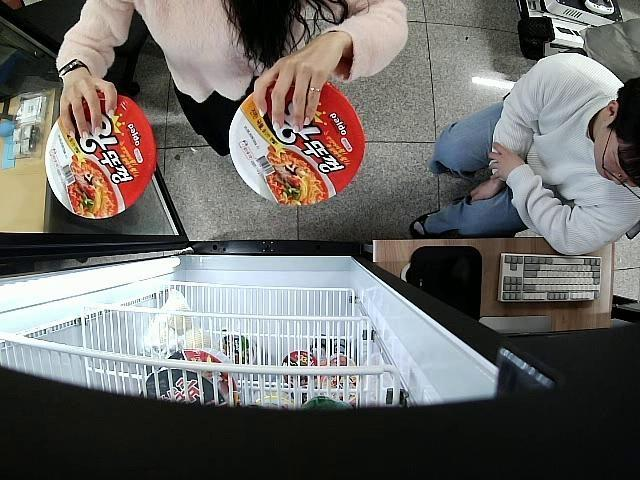10_wangTtukkeong: (229, 80, 365, 207), (45, 92, 156, 219)
